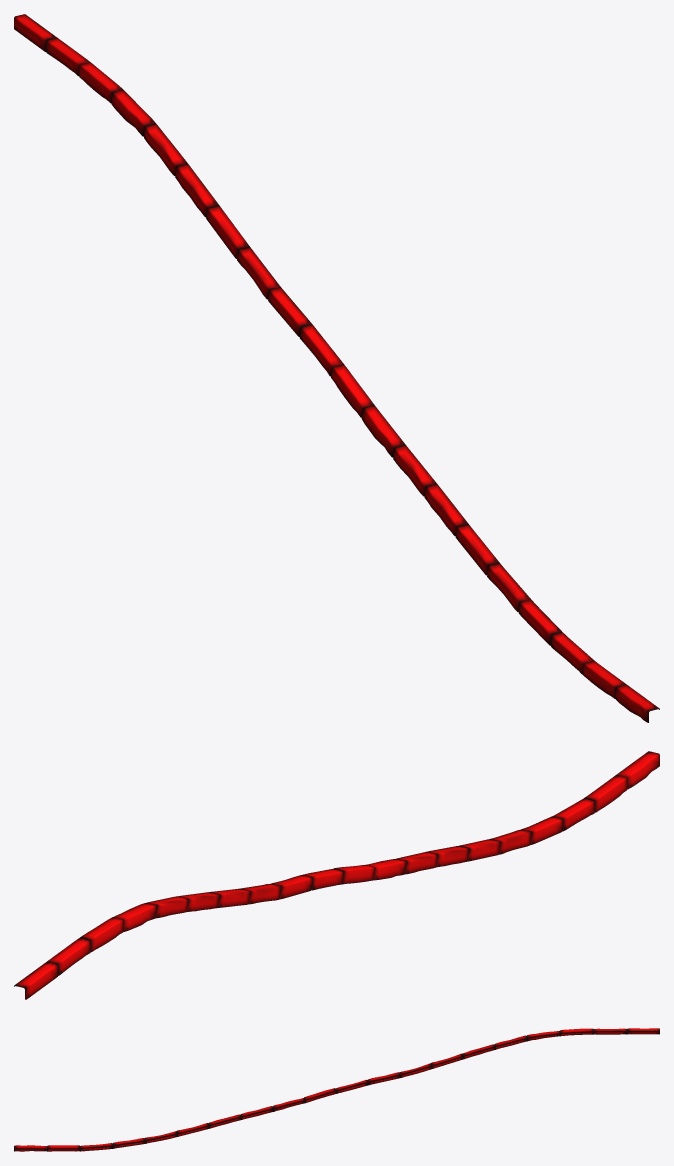
Rendered from curb_ramp_right.fbx.
The picture shows the model from 3 angles, top to bottom: view 1: azimuth 30°, elevation 25°; view 2: azimuth 150°, elevation 25°; view 3: azimuth 270°, elevation 25°; orthographic projection. The views are drawn at different scales.
Parts seen in each view (by area): view 1: curb_ramp_right; view 2: curb_ramp_right; view 3: curb_ramp_right.
Part boxes in pixels (bbox=[...]): curb_ramp_right: bbox=[14, 14, 659, 722]; curb_ramp_right: bbox=[14, 751, 659, 999]; curb_ramp_right: bbox=[14, 1028, 659, 1151].
Bounding box in the file's own units: 0.2482 × 4.22 × 20.
